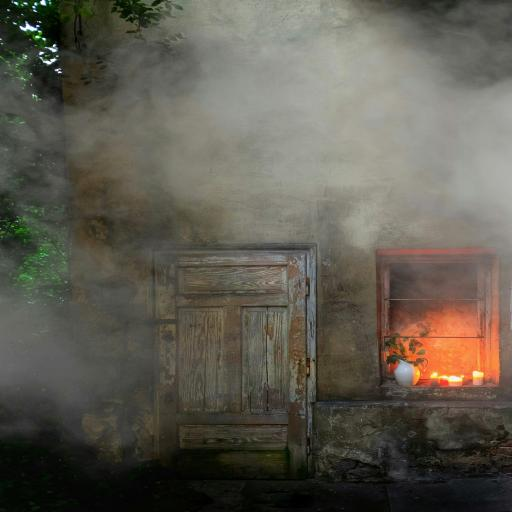smoke: (91, 11, 512, 244), (0, 276, 109, 415)
